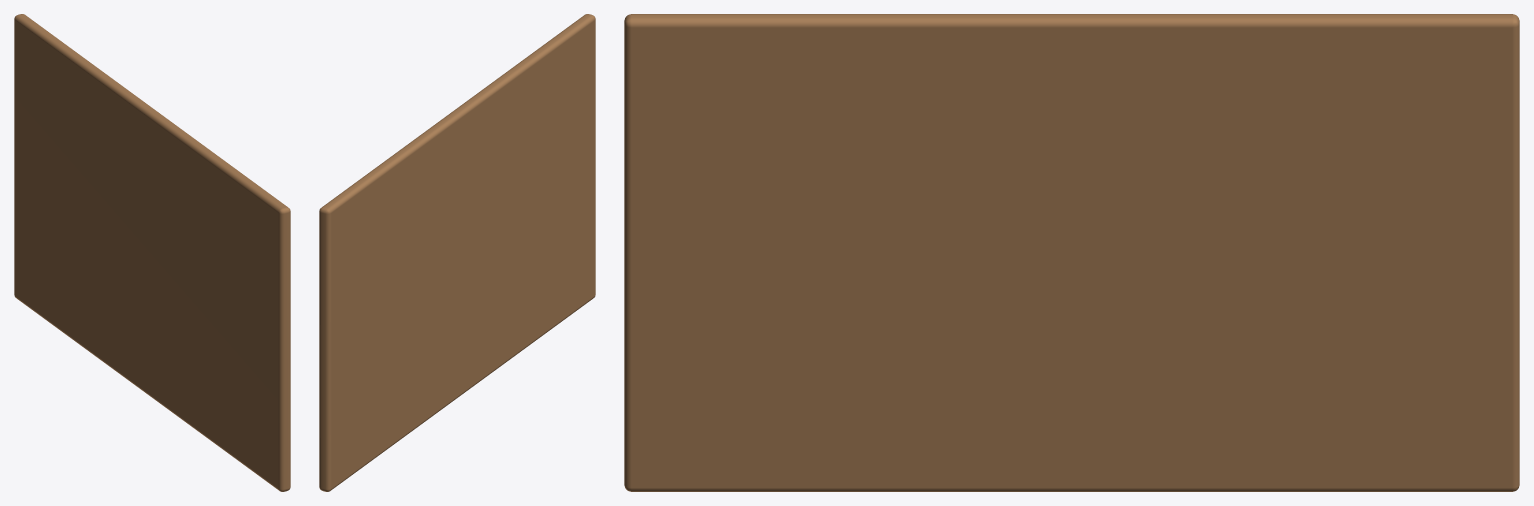
Rendered from SM_EG_Notice_board_cc53032389.fbx.
3 views of the same model, side by side, from view 1: azimuth 30°, elevation 25°; view 2: azimuth 150°, elevation 25°; view 3: azimuth 270°, elevation 25° (orthographic). The views are drawn at different scales.
Visible parts, largest first — view 1: SM_EG_Notice_board_cc53032389; view 2: SM_EG_Notice_board_cc53032389; view 3: SM_EG_Notice_board_cc53032389.
Boxes of the visible parts, <box> form: SM_EG_Notice_board_cc53032389: <box>14,14,290,491</box>; SM_EG_Notice_board_cc53032389: <box>319,14,595,491</box>; SM_EG_Notice_board_cc53032389: <box>624,14,1519,491</box>.
Size of the model in its own units: 6 by 240 by 140.
